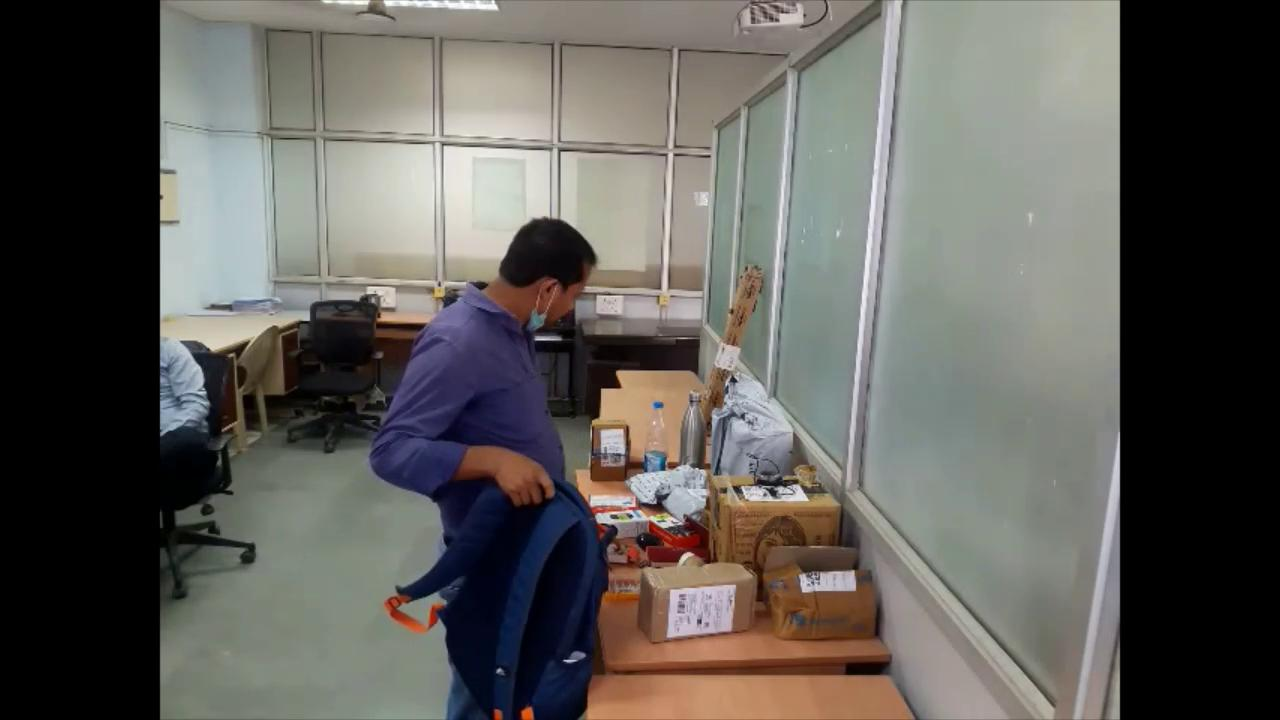shoplifting: (366, 219, 611, 720)
